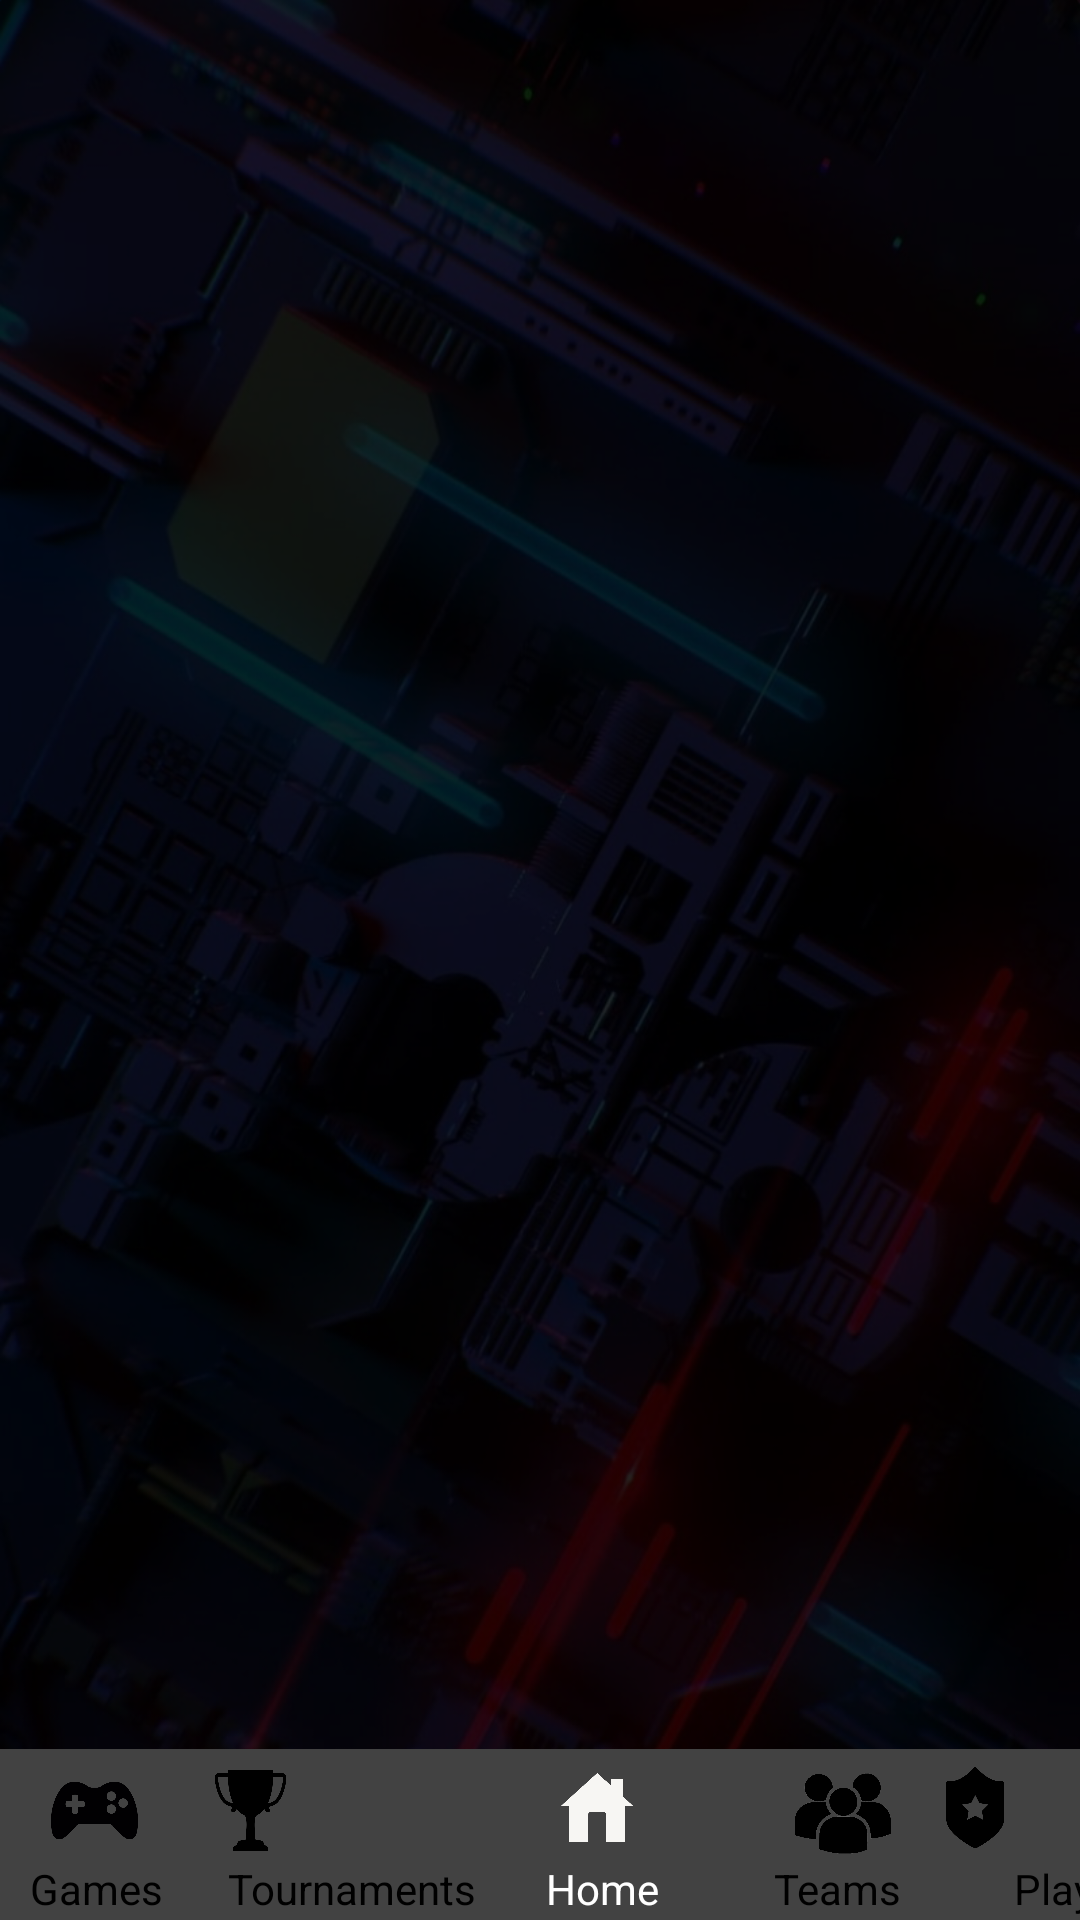

Screen size 1080x1920. Icon name, then its box in pixels as (x1, y1, x2, y2):
console: (51, 1782, 138, 1839)
cup: (215, 1770, 286, 1851)
rank: (946, 1767, 1004, 1848)
